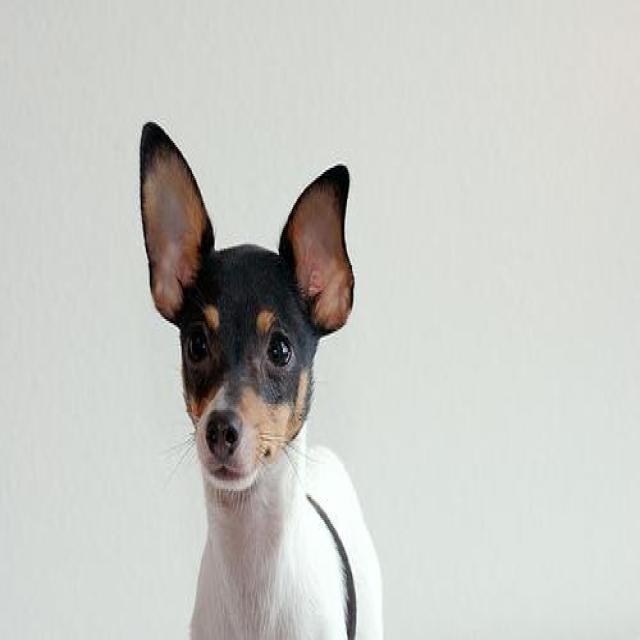toy_terrier: (138, 116, 386, 636)
